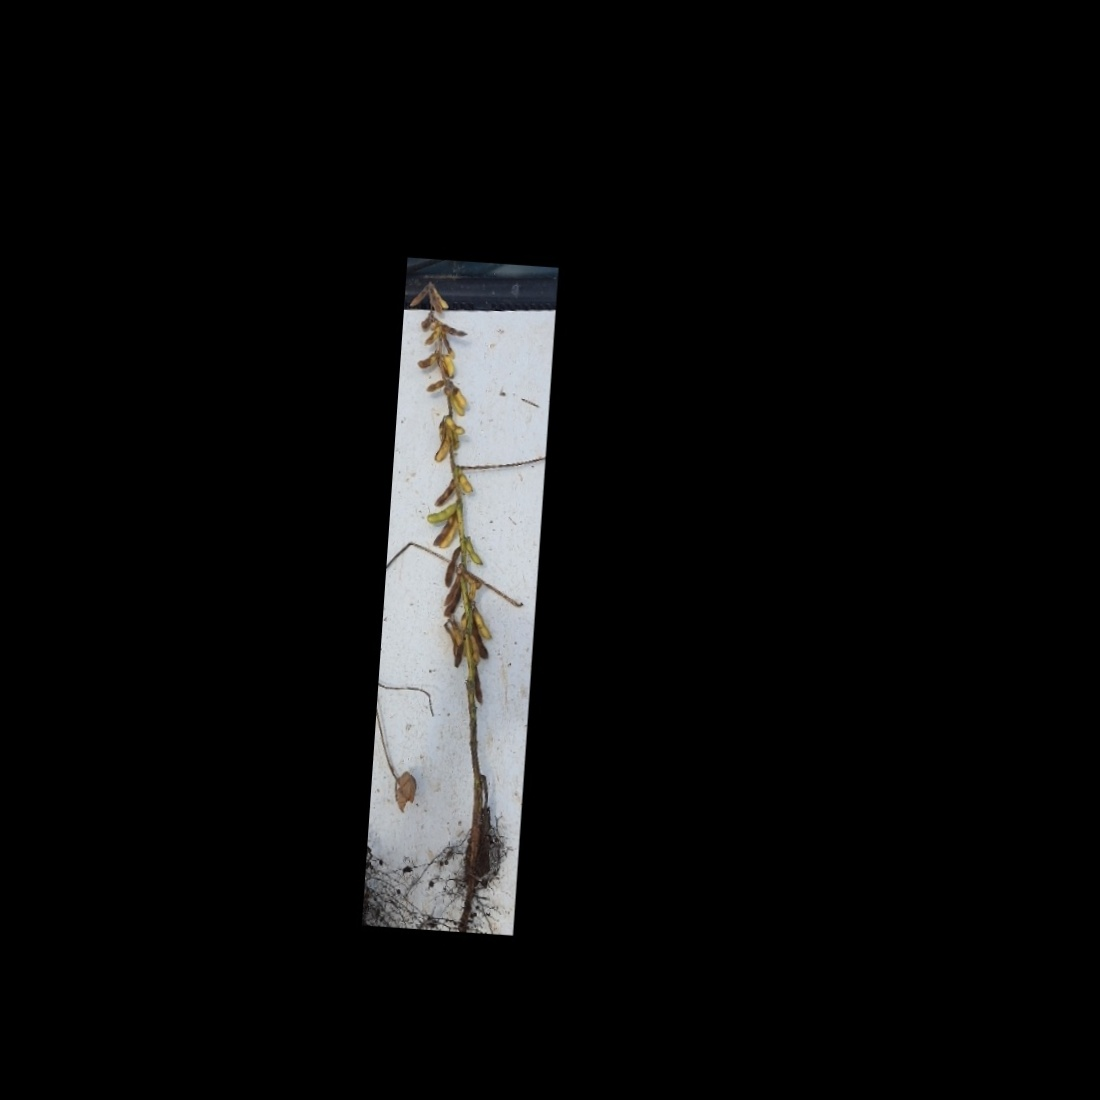pod: (460, 531, 489, 569), (439, 545, 462, 591), (425, 497, 457, 526), (472, 607, 497, 642), (407, 280, 430, 311), (433, 475, 456, 507), (470, 667, 488, 707), (455, 466, 476, 496), (437, 319, 469, 338), (415, 349, 438, 371), (438, 336, 459, 361), (423, 377, 447, 395)
soy: (366, 272, 553, 908)
